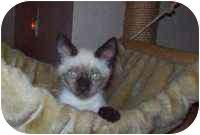siamese: (53, 29, 122, 104)
